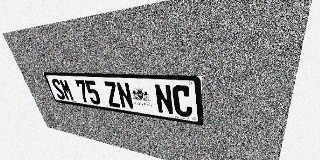5: (84, 80, 102, 105)
7: (74, 80, 91, 104)
C: (172, 85, 193, 118)
M: (58, 79, 75, 101)
N: (154, 84, 174, 115), (115, 82, 135, 110)
S: (50, 78, 66, 100)
Z: (103, 81, 121, 108)
